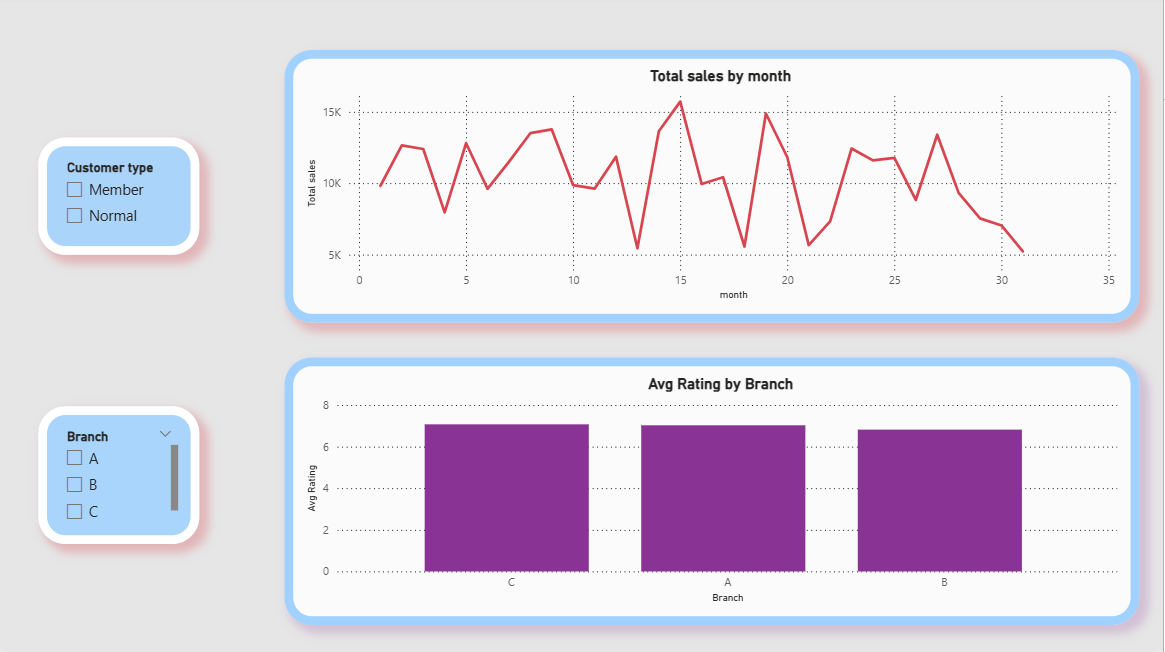

What the dashboard file says about the page in this screenshot:
{"tool":"powerbi","page":{"name":"month vs rating","canvas":[1280,720],"ordinal":1},"visuals":[{"type":"columnChart","fields":{"Category":["supermarket_sales.Branch"],"Y":["supermarket_sales.Avg Rating"]},"box":[315.6,397.9,938.6,293.7],"z":0},{"type":"lineChart","fields":{"Y":["supermarket_sales.Total sales"],"Category":["supermarket_sales.month"]},"box":[315.6,60.4,938.6,299.1],"z":1000},{"type":"slicer","fields":{"Values":["supermarket_sales.Branch"]},"box":[45.3,451.5,177,150.9],"z":2000},{"type":"slicer","fields":{"Values":["supermarket_sales.Customer type"]},"box":[45.3,156.4,177,129],"z":3000}]}

Visuals, with their boxes in screenshot pixels (x1, y1, x2, y2), scaled from the page's 1280x720 canvas onto the 1165x652 screenshot:
columnChart - supermarket_sales.Branch x supermarket_sales.Avg Rating: {"left": 287, "top": 360, "right": 1142, "bottom": 626}
lineChart - supermarket_sales.Total sales x supermarket_sales.month: {"left": 287, "top": 55, "right": 1142, "bottom": 326}
slicer - supermarket_sales.Branch: {"left": 41, "top": 409, "right": 202, "bottom": 546}
slicer - supermarket_sales.Customer type: {"left": 41, "top": 142, "right": 202, "bottom": 258}
